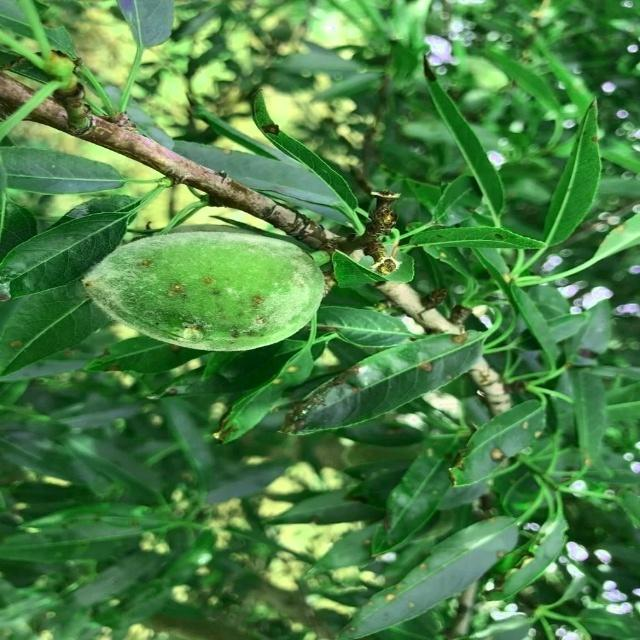leaf_spot: (58, 227, 328, 348), (265, 309, 499, 440)
